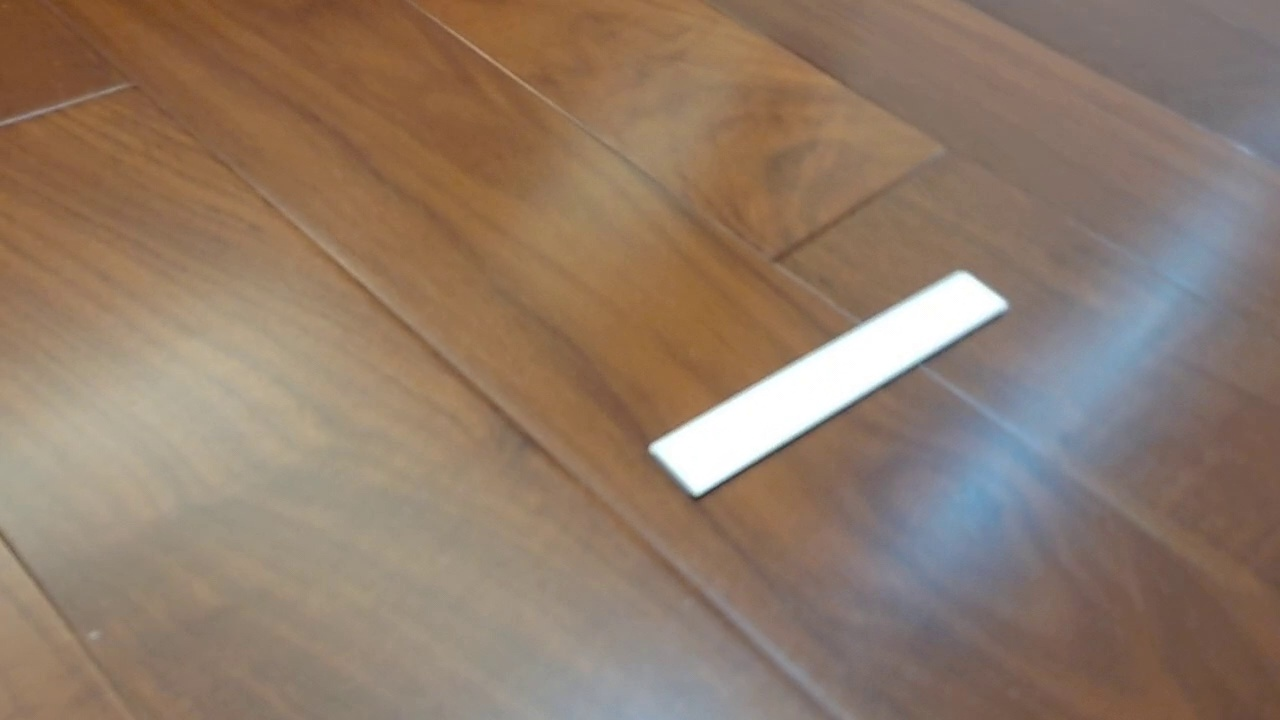ruler: (647, 267, 1011, 502)
